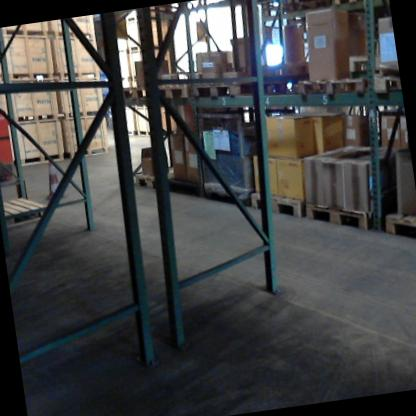pallet: (187, 64, 306, 112), (298, 185, 392, 244), (250, 178, 320, 231), (296, 69, 372, 110), (0, 187, 52, 232), (130, 160, 189, 196), (377, 202, 416, 246), (253, 1, 302, 29), (116, 80, 156, 111), (366, 67, 402, 100), (152, 73, 191, 103), (287, 0, 334, 22), (333, 0, 386, 15)
pallet_truck: (0, 85, 21, 181)
stillage: (188, 96, 284, 211), (290, 0, 332, 11)
